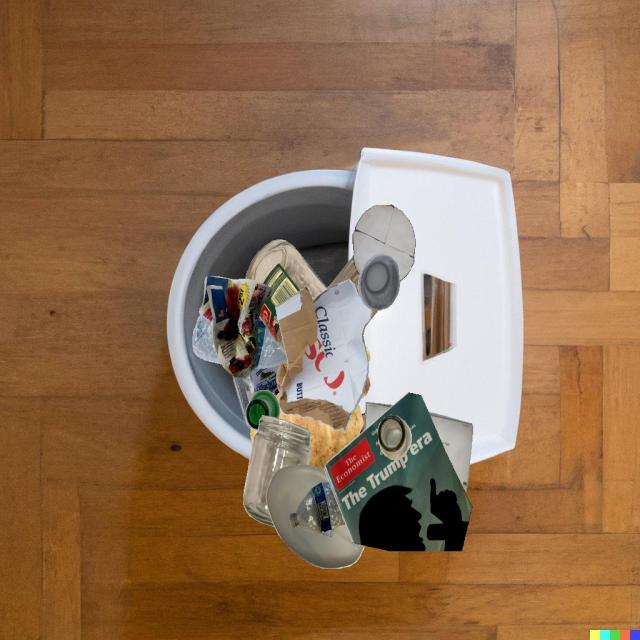biowaste: (275, 392, 364, 470), (281, 361, 369, 400)
cardboard: (275, 280, 372, 431)
glass: (246, 239, 328, 356), (243, 415, 311, 527), (378, 415, 412, 460), (246, 390, 280, 431), (359, 413, 365, 435)
paper: (324, 392, 472, 551), (199, 276, 273, 378), (353, 204, 415, 281), (428, 412, 473, 493)
plastic: (266, 464, 365, 569), (232, 365, 280, 430), (289, 482, 345, 533), (358, 254, 400, 311), (254, 317, 288, 369), (359, 275, 400, 312), (193, 315, 221, 364), (327, 256, 360, 297)
